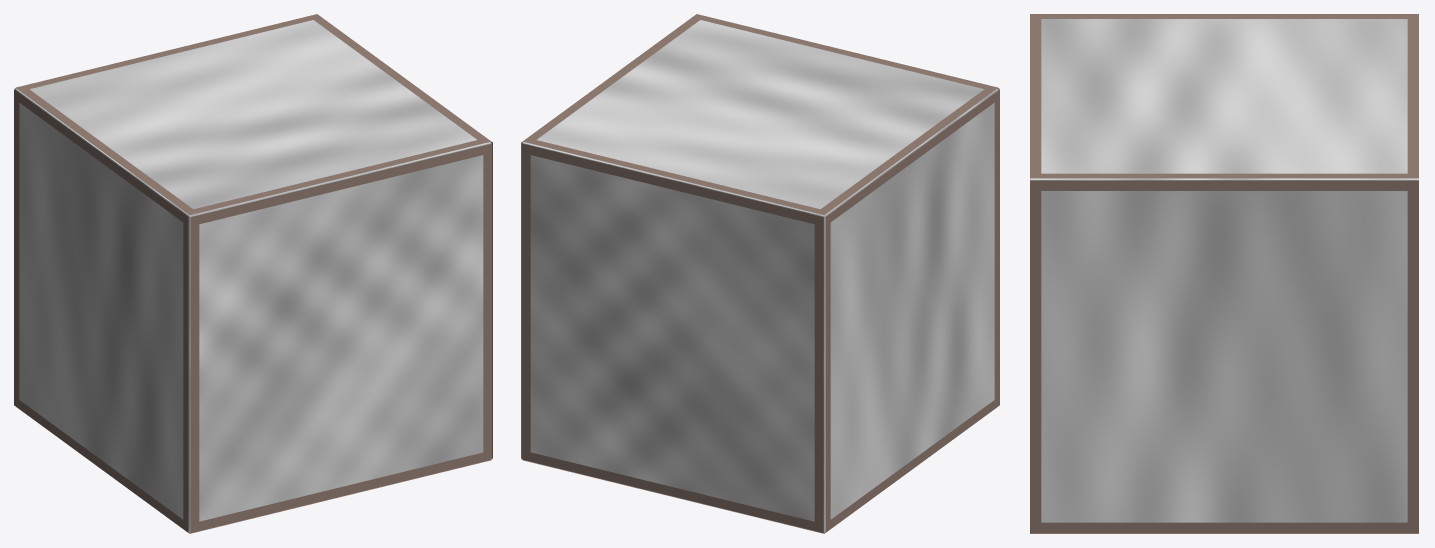
The model's file is noface_body.obj.
3 renders of one model, left to right at view 1: azimuth 30°, elevation 25°; view 2: azimuth 150°, elevation 25°; view 3: azimuth 270°, elevation 25°, orthographic. The views are drawn at different scales.
Parts seen in each view (by area): view 1: body, face; view 2: body, face; view 3: body, face.
Boxes of the visible parts, x1,y1,x2,y2 form: body: [15, 20, 491, 532]; face: [14, 14, 492, 533]; body: [522, 20, 998, 532]; face: [521, 14, 999, 533]; body: [1030, 19, 1418, 522]; face: [1030, 14, 1418, 533].
Bounding box in the file's own units: 0.686 × 0.686 × 0.686.
Materials: 2 (1 with a texture image).
